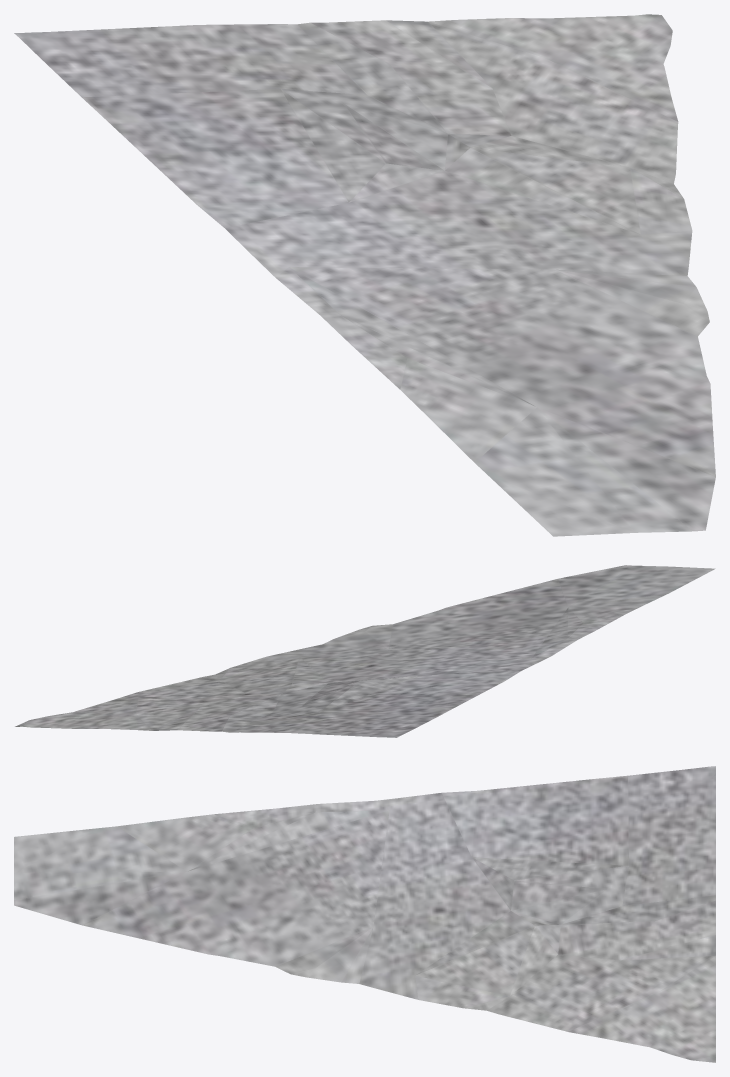
3 renders of one model, top to bottom at view 1: azimuth 30°, elevation 25°; view 2: azimuth 150°, elevation 25°; view 3: azimuth 270°, elevation 25°, orthographic. The views are drawn at different scales.
Size of the model in its own units: 1.16 by 0.2396 by 1.67.
1 material, 1 textured.
